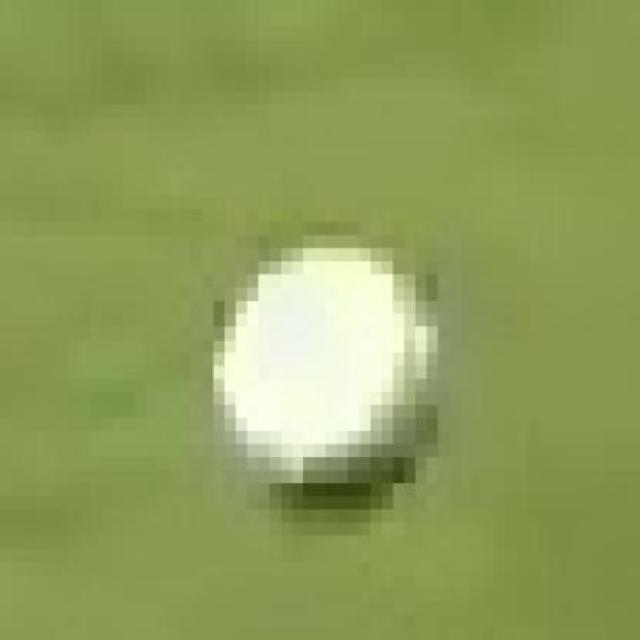Cricket ball: (205, 235, 448, 540)
